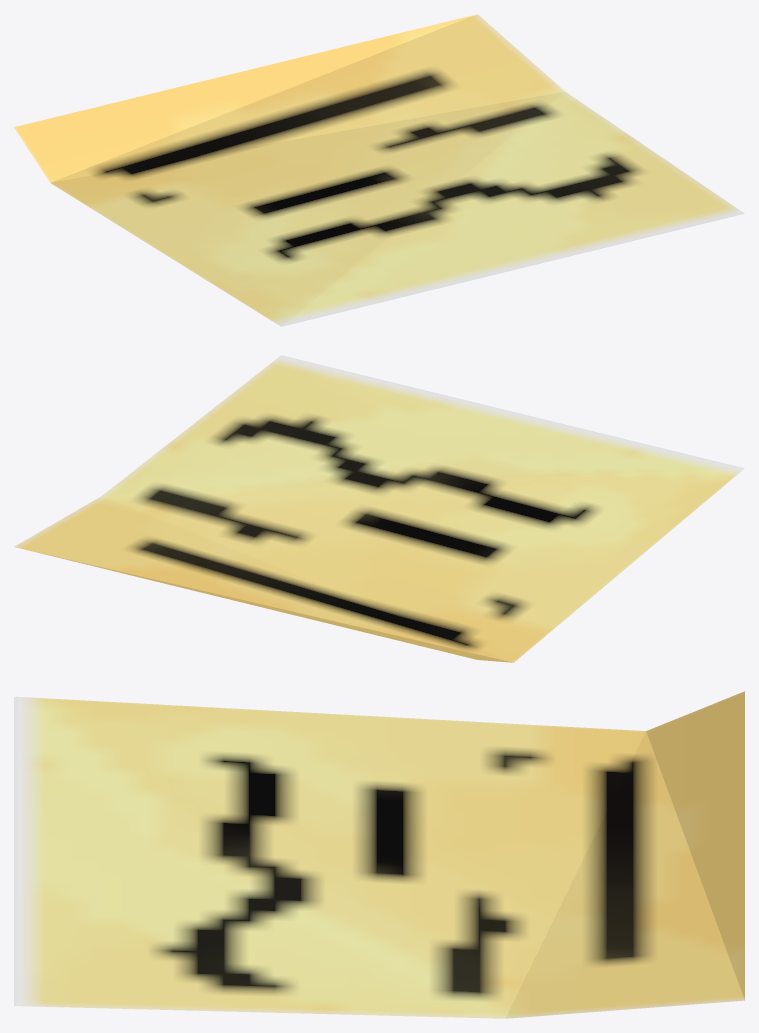
File: postnote2.fbx
The picture shows the model from 3 angles, top to bottom: view 1: azimuth 30°, elevation 25°; view 2: azimuth 150°, elevation 25°; view 3: azimuth 270°, elevation 25°; orthographic projection. The views are drawn at different scales.
Parts seen in each view (by area): view 1: Post_Note2; view 2: Post_Note2; view 3: Post_Note2.
Boxes of the visible parts, box(x1,y1,x2,y2) form: Post_Note2: box(14, 14, 744, 326); Post_Note2: box(14, 355, 744, 662); Post_Note2: box(14, 691, 744, 1018).
Size of the model in its own units: 24.11 by 1.45 by 24.07.
